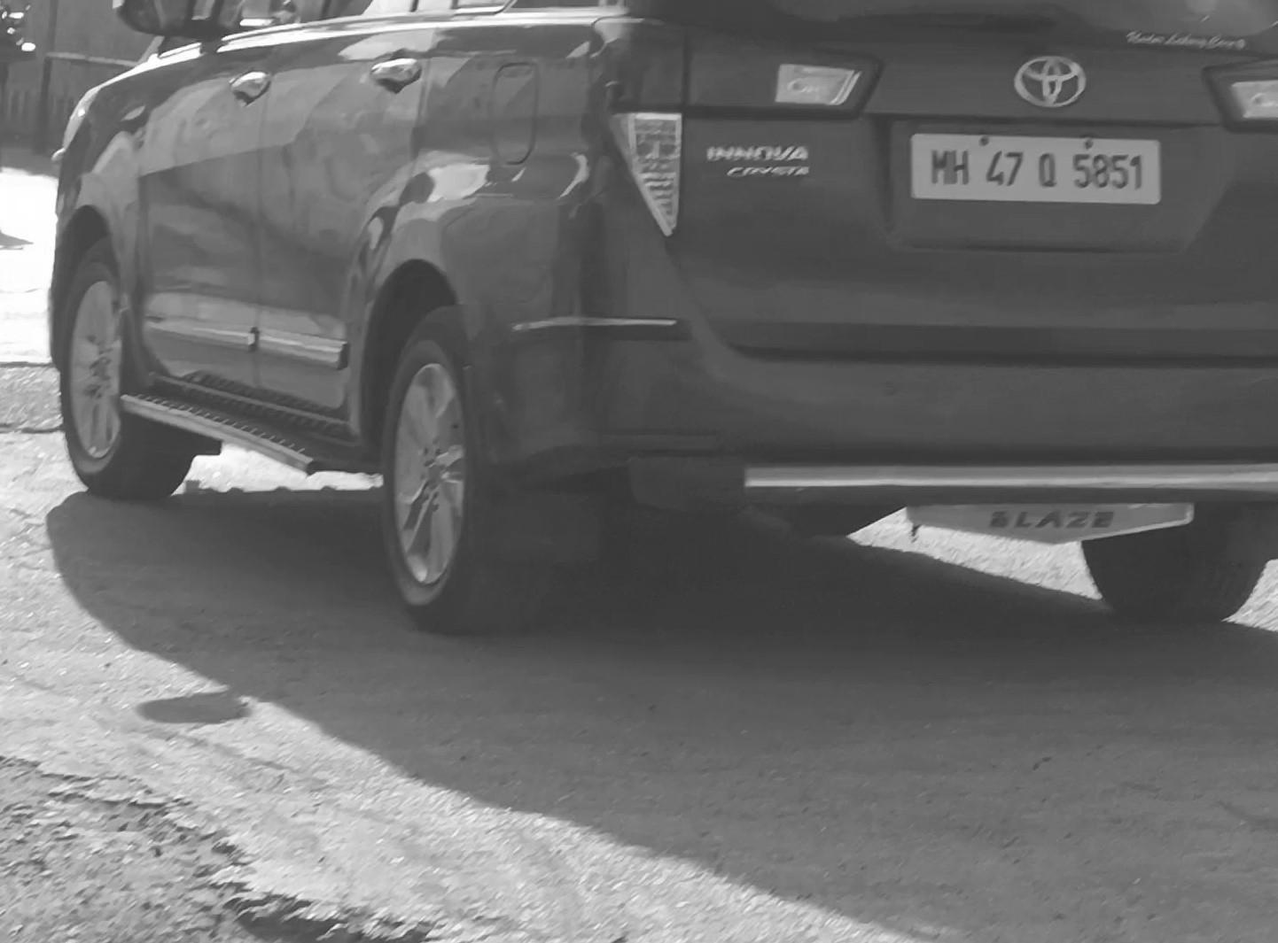number_plate: (903, 134, 1156, 206)
